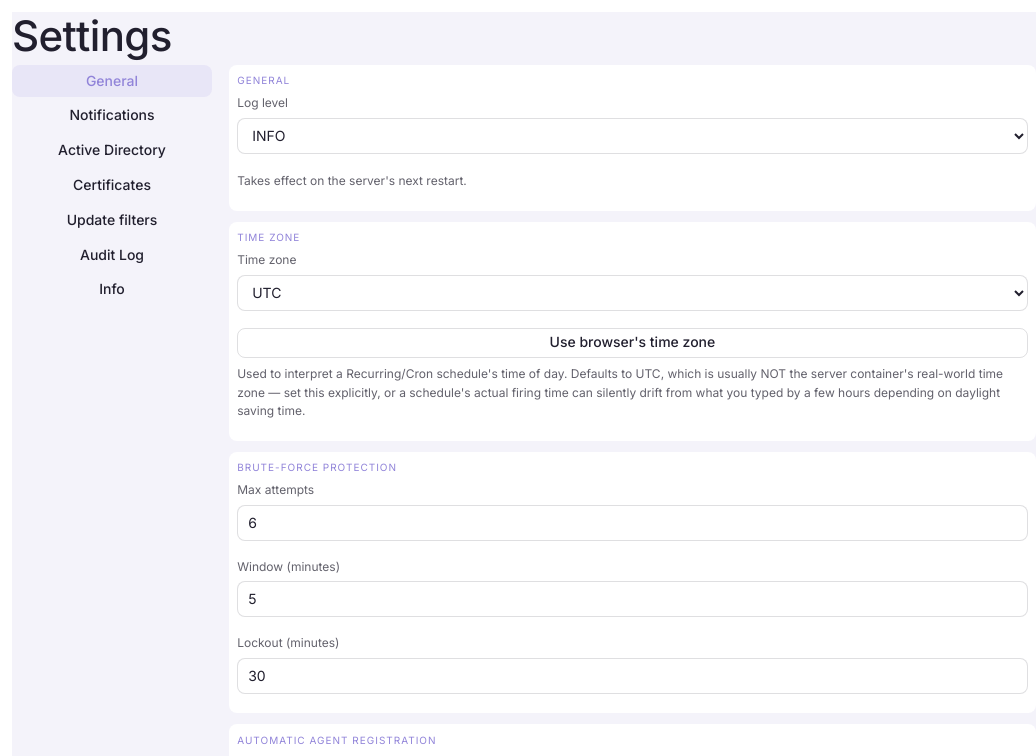
Test case: AdminPage › renders the loaded settings into the form fields
Expected: the number field labelled "Max attempts" holds "6", [237,505,1028,541]
Expected: the dropdown labelled "Log level" shows "INFO", [237,118,1028,154]
Click the tab "Certificates" at (112, 185), box [12,169,212,202]
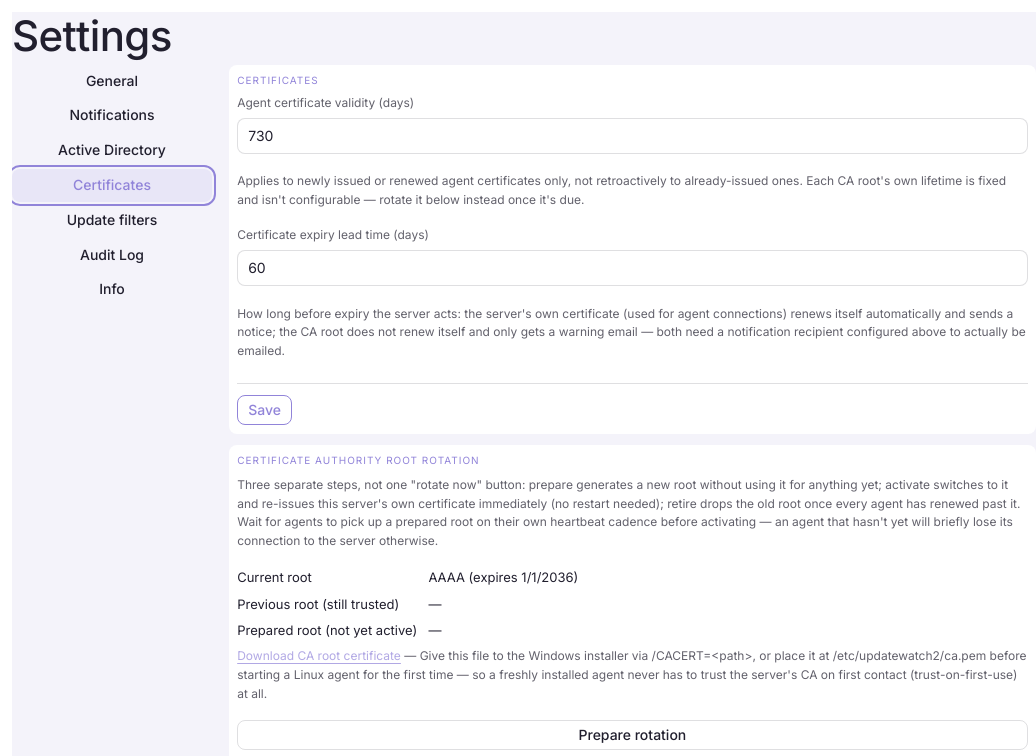
Now the number field labelled "Certificate expiry lead time (days)" holds "60", box [237,250,1028,286]
